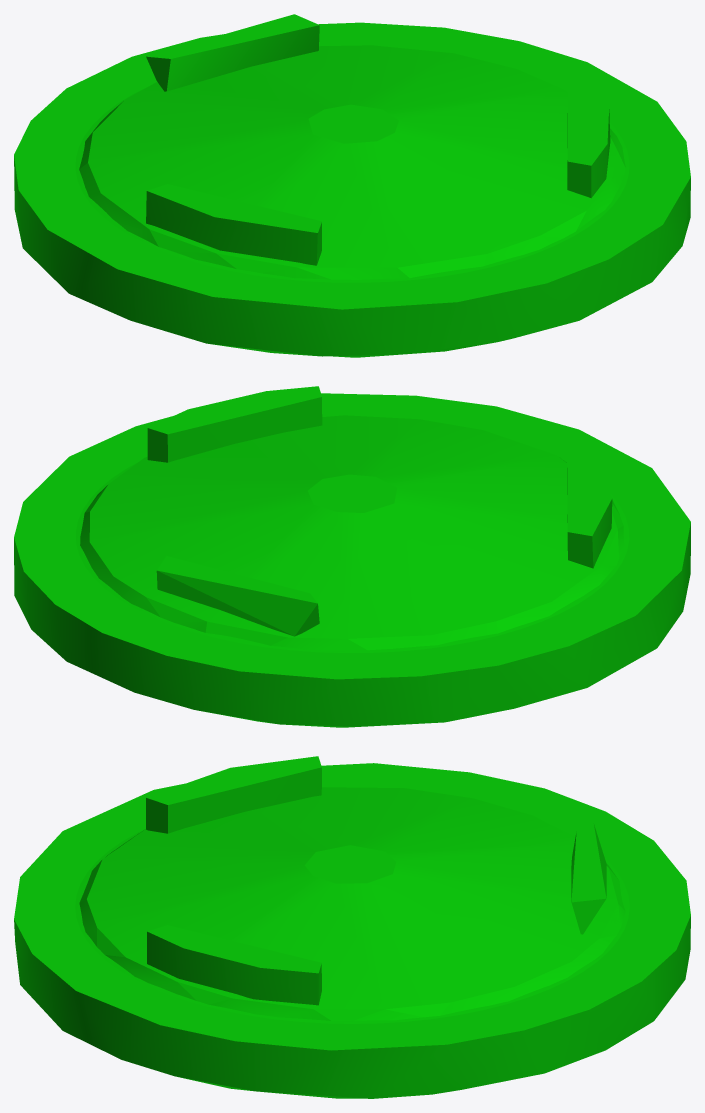
The model's file is UCX_CeilingLight2.fbx.
The picture shows the model from 3 angles, top to bottom: view 1: azimuth 30°, elevation 25°; view 2: azimuth 150°, elevation 25°; view 3: azimuth 270°, elevation 25°; orthographic projection.
Visible parts, largest first — view 1: UCX_CeilingLight2; view 2: UCX_CeilingLight2; view 3: UCX_CeilingLight2.
Part boxes in pixels (bbox=[...]): UCX_CeilingLight2: bbox=[14, 14, 690, 357]; UCX_CeilingLight2: bbox=[14, 386, 690, 727]; UCX_CeilingLight2: bbox=[14, 756, 690, 1098].
Bounding box in the file's own units: 0.5692 × 0.135 × 0.5666.
